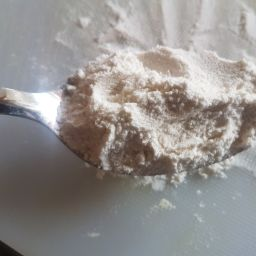Plain flour: (39, 38, 256, 190), (82, 1, 256, 186), (85, 63, 241, 154)
